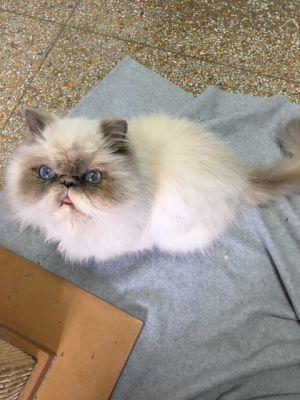persian: (6, 98, 146, 256)
